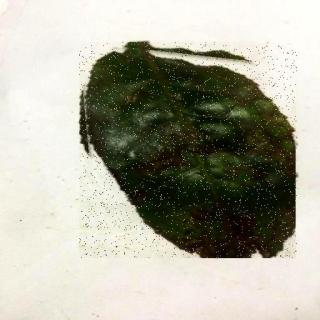Red Leaf Spot: (81, 43, 298, 259)
